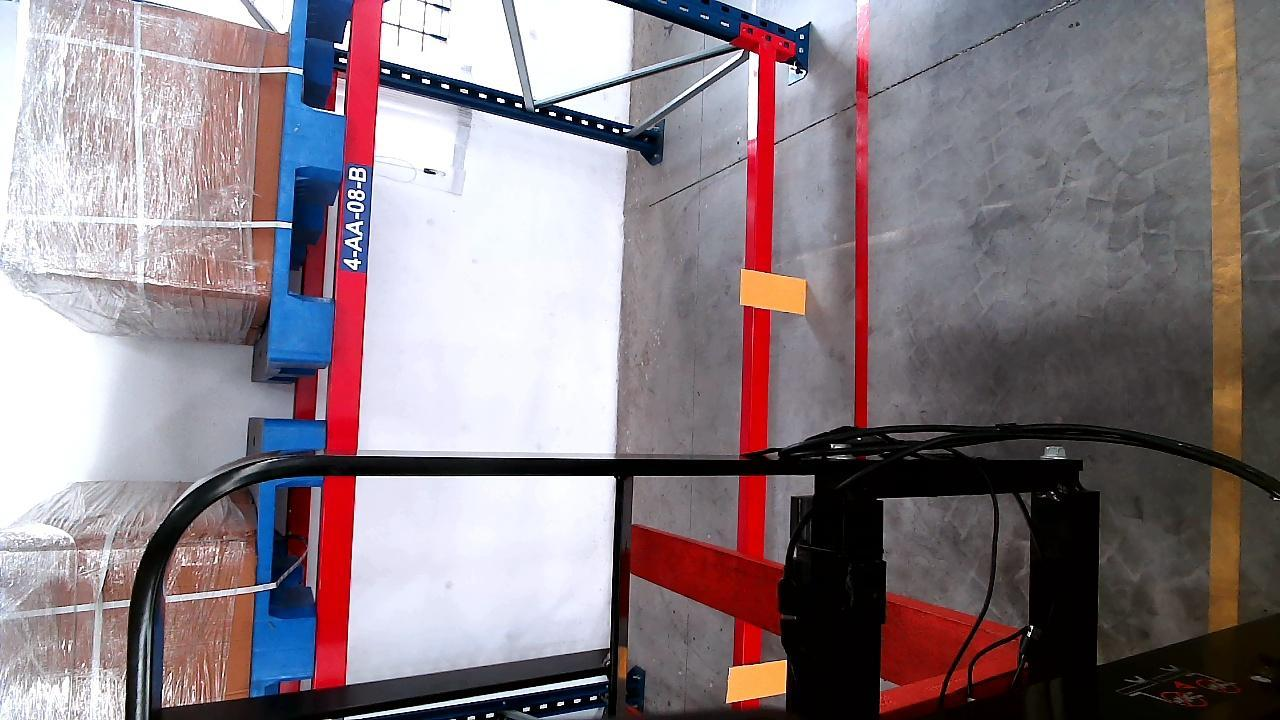red_line: (855, 0, 871, 424)
yellow_line: (1208, 0, 1239, 635)
